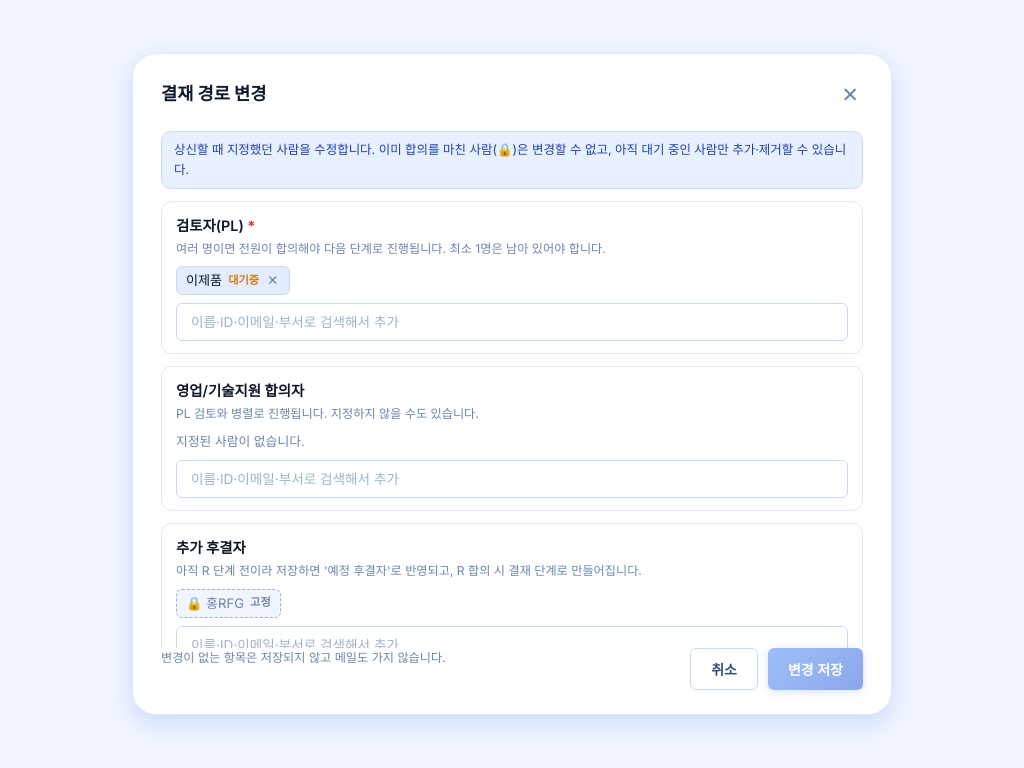
Test: 검토자(PL)를 전부 비우면 저장할 수 없고 안내가 나온다
The width and height of the screenshot is (1024, 768).
Expected: the field with placeholder "이름·ID·이메일·부서로 검색해서 추가" below "이제품" is enabled, [176, 303, 848, 341]
Click the button named "제거" at x=273, y=281, box [265, 274, 280, 287]
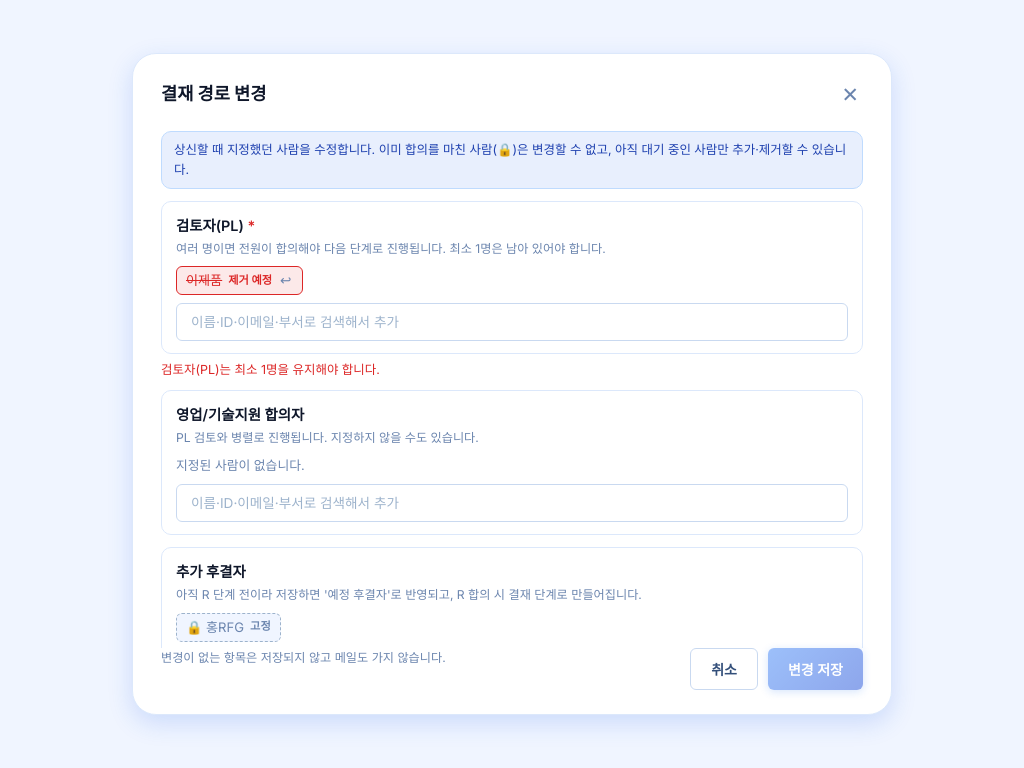
Expected: the button "변경 저장" is disabled, [768, 648, 863, 690]
Now the text "검토자(PL)는 최소 1명을 유지해야 합니다." is shown, box [161, 362, 380, 377]
